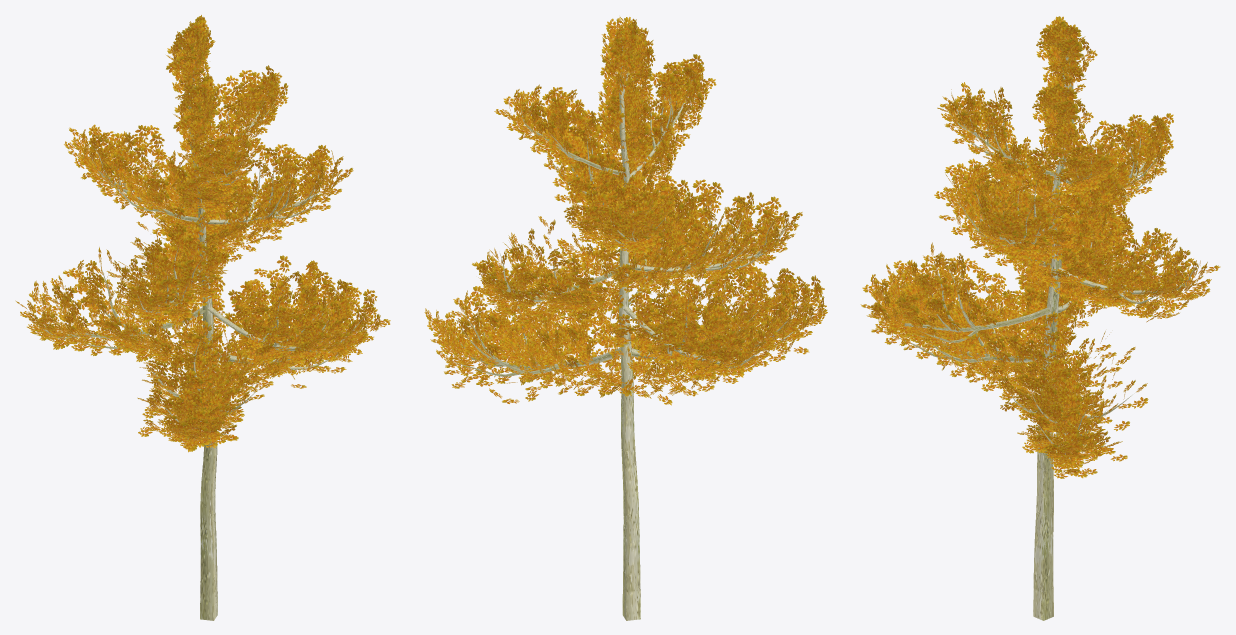
Rendered from Tree_4_1.glb.
The picture shows the model from 3 angles, left to right: view 1: azimuth 30°, elevation 25°; view 2: azimuth 150°, elevation 25°; view 3: azimuth 270°, elevation 25°; orthographic projection. The views are drawn at different scales.
Visible parts, largest first — view 1: Tree_4_V1; view 2: Tree_4_V1; view 3: Tree_4_V1.
Boxes of the visible parts, x1=… form: Tree_4_V1: x1=15, y1=15, x2=390, y2=620; Tree_4_V1: x1=424, y1=17, x2=827, y2=620; Tree_4_V1: x1=860, y1=16, x2=1220, y2=620.
Bounding box in the file's own units: 4.27 × 6.87 × 3.77.
1 material, 1 textured.
